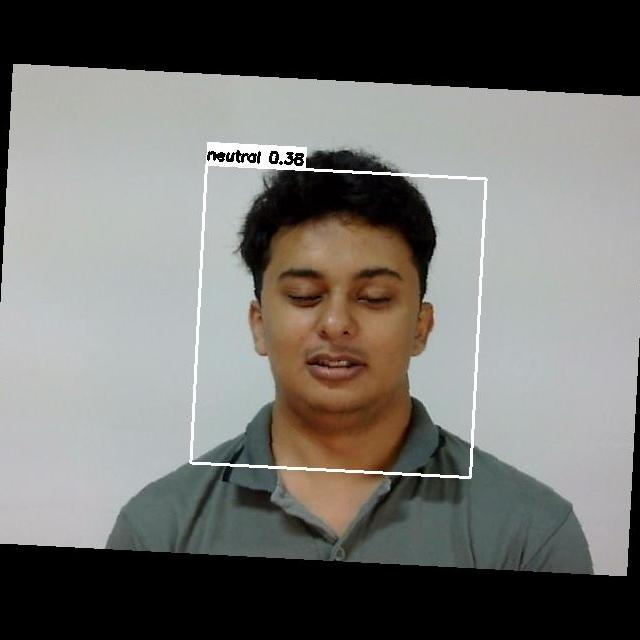Fear: (259, 241, 422, 398)
